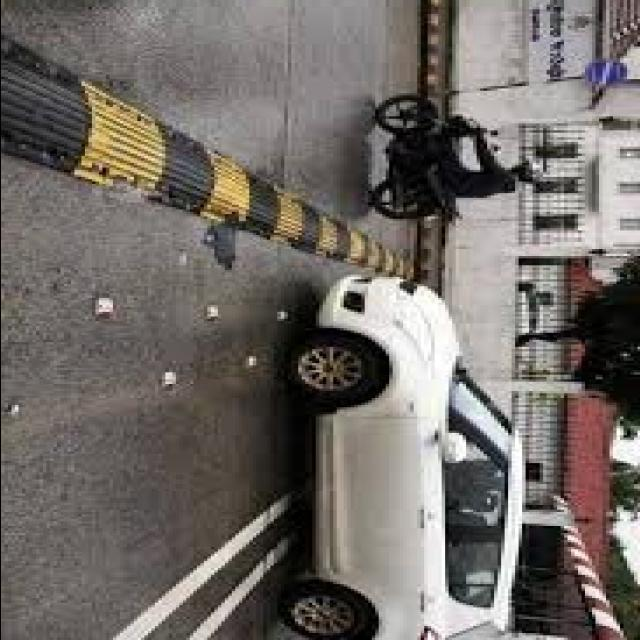speedbreaker: (0, 39, 422, 282)
